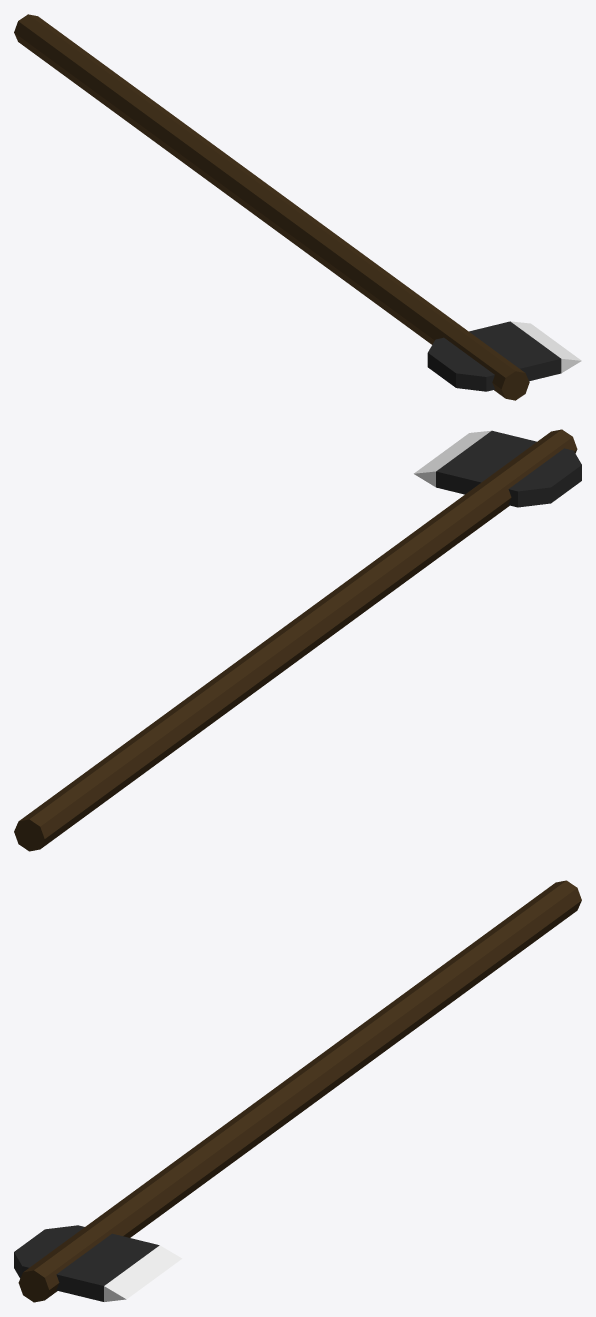
Rendered from lumberjackAxe.fbx.
3 renders of one model, top to bottom at view 1: azimuth 30°, elevation 25°; view 2: azimuth 150°, elevation 25°; view 3: azimuth 330°, elevation 25°, orthographic. The views are drawn at different scales.
Parts seen in each view (by area): view 1: Axe; view 2: Axe; view 3: Axe.
Boxes of the visible parts, bbox=[...] form: Axe: bbox=[14, 14, 581, 400]; Axe: bbox=[14, 429, 581, 851]; Axe: bbox=[14, 880, 581, 1302].
Bounding box in the file's own units: 0.4069 × 0.1 × 3.
